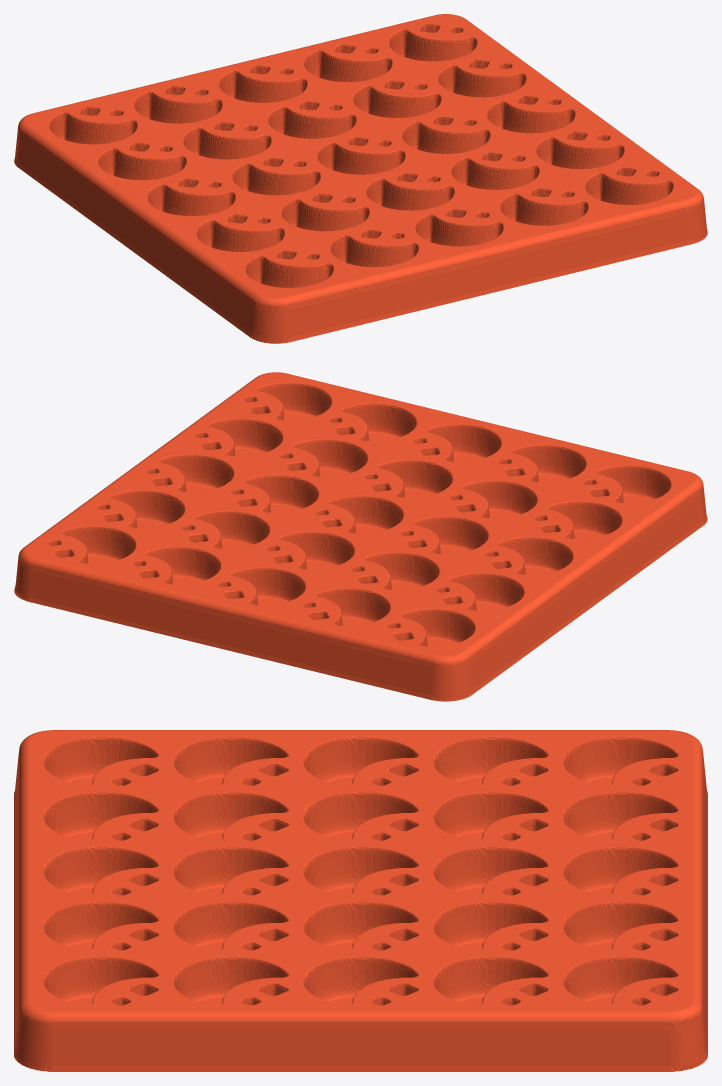
The model's file is mold.glb.
3 views of the same model, one above another, from view 1: azimuth 30°, elevation 25°; view 2: azimuth 150°, elevation 25°; view 3: azimuth 270°, elevation 25° (orthographic). The views are drawn at different scales.
Visible parts, largest first — view 1: geometry_0; view 2: geometry_0; view 3: geometry_0.
Boxes of the visible parts, x1,y1,x2,y2 form: geometry_0: (14, 14, 707, 343); geometry_0: (14, 372, 707, 701); geometry_0: (14, 730, 707, 1071).
Size of the model in its own units: 0.1584 by 0.0136 by 0.1584.
